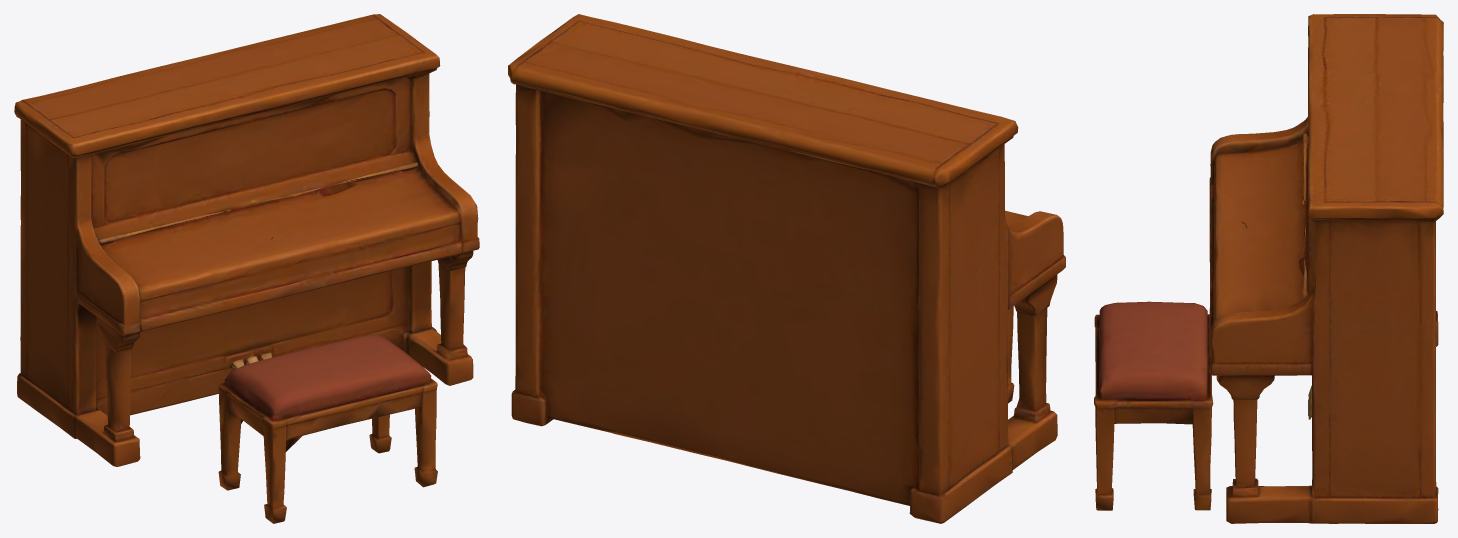
Rendered from piano.glb.
3 renders of one model, left to right at view 1: azimuth 30°, elevation 25°; view 2: azimuth 150°, elevation 25°; view 3: azimuth 270°, elevation 25°, orthographic. The views are drawn at different scales.
Visible parts, largest first — view 1: piano-node; view 2: piano-node; view 3: piano-node.
Part boxes in pixels (x1,y1,x2,y2): piano-node: (14, 14, 479, 523); piano-node: (508, 14, 1065, 523); piano-node: (1094, 14, 1443, 523).
Size of the model in its own units: 1.16 by 1 by 0.8836.
1 material, 1 textured.
